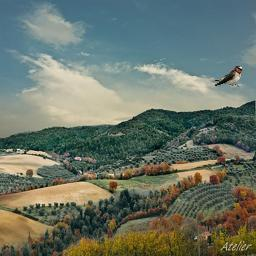Swallow: (214, 65, 244, 87)
